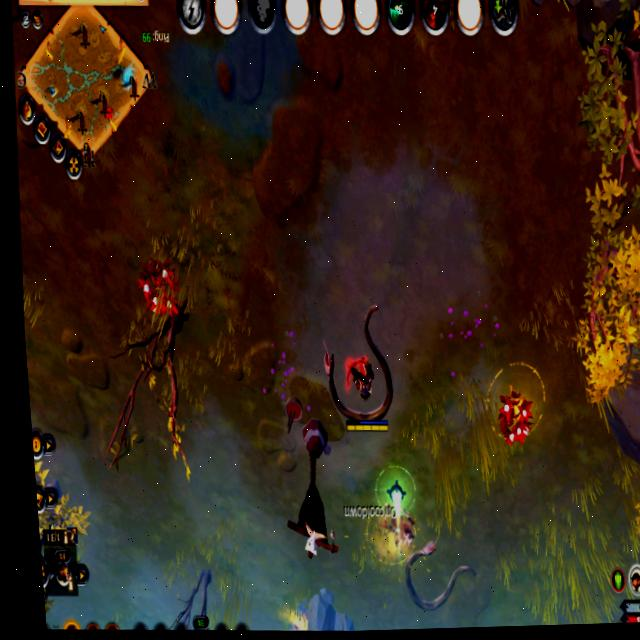hide: (490, 368, 542, 448), (134, 252, 188, 321)
red: (333, 352, 394, 437)
